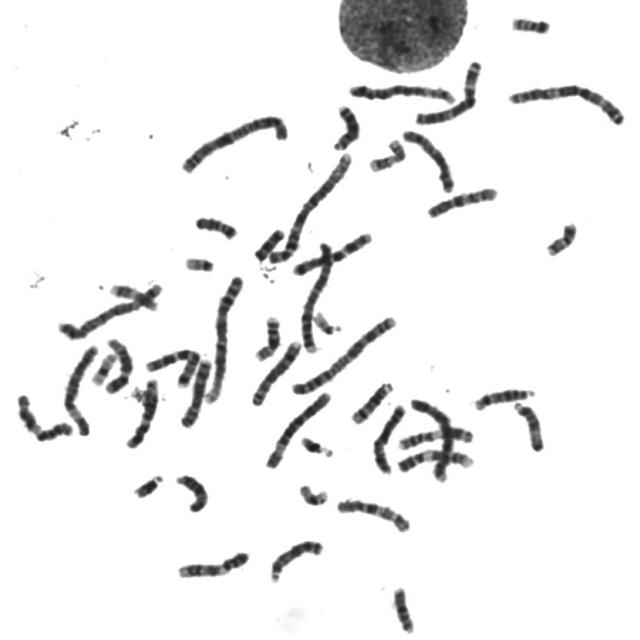A1: (262, 144, 356, 266), (200, 268, 247, 406)
A2: (285, 308, 400, 397), (174, 106, 292, 176)
A3: (501, 76, 628, 127), (409, 54, 484, 125)
B4: (294, 233, 336, 354), (405, 390, 457, 483)
B5: (52, 276, 165, 342), (342, 75, 459, 105)
C10: (331, 491, 414, 535), (421, 179, 501, 220)
C11: (10, 386, 76, 443), (392, 419, 476, 451)
C12: (120, 372, 161, 450), (99, 331, 135, 395)
C6: (260, 384, 335, 471), (57, 337, 102, 438)
C7: (285, 225, 375, 277), (140, 341, 202, 388)
C8: (245, 333, 304, 408), (175, 351, 215, 429)
C9: (171, 544, 252, 581), (391, 442, 476, 475)
D13: (264, 532, 326, 584), (327, 98, 362, 152)
D14: (345, 375, 396, 426), (468, 381, 539, 412)
D15: (508, 395, 548, 453), (170, 467, 211, 514)
E16: (248, 309, 284, 363), (386, 579, 418, 635)
E17: (103, 277, 161, 312), (362, 132, 408, 174)
E18: (189, 208, 240, 241), (248, 221, 288, 263)
F19: (86, 346, 120, 387), (293, 477, 332, 507)
F20: (540, 215, 580, 258), (505, 8, 553, 36)
G21: (126, 466, 168, 499), (294, 428, 336, 458)
G22: (308, 304, 344, 336), (178, 249, 217, 273)
X: (397, 123, 458, 194)
